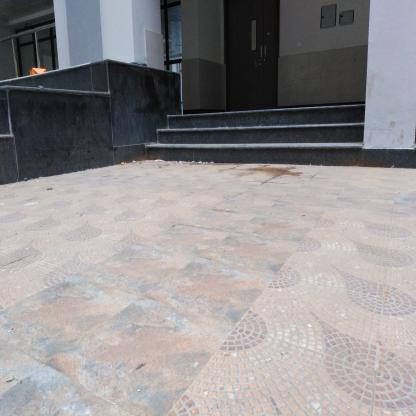stairs: (175, 112, 359, 170)
